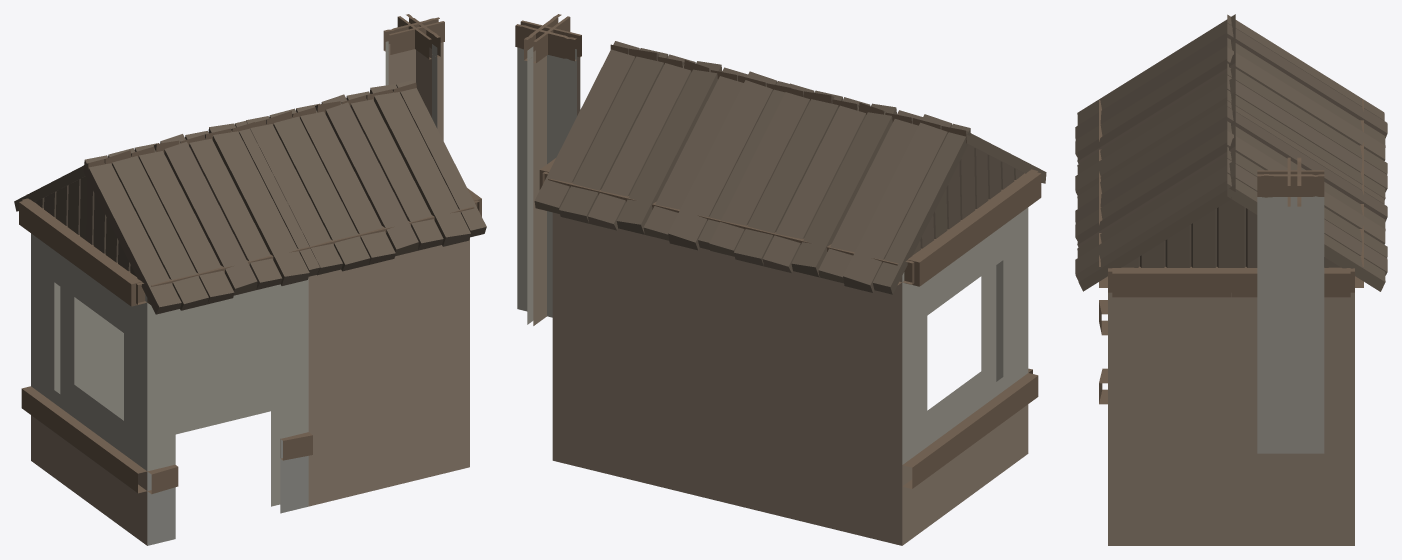
Rendered from workshop.glb.
3 views of the same model, side by side, from view 1: azimuth 30°, elevation 25°; view 2: azimuth 150°, elevation 25°; view 3: azimuth 270°, elevation 25° (orthographic). The views are drawn at different scales.
Visible parts, largest first — view 1: authored:building-shell-workshop:brick:1, MoyoSilhouetteRoof:6, MoyoSilhouetteRoof:8, authored:building-shell-workshop:window:4, authored:building-shell-workshop:door:0, authored:building-shell-workshop:brick:2, authored:building-shell-workshop:brick:3, MoyoSilhouetteRoof:7, MoyoSilhouetteStack:11, MoyoSilhouetteStack:10, MoyoSilhouetteRoof:9; view 2: authored:building-shell-workshop:brick:2, authored:building-shell-workshop:brick:3, MoyoSilhouetteRoof:7, MoyoSilhouetteRoof:9, authored:building-shell-workshop:window:4, MoyoSilhouetteStack:11, MoyoSilhouetteRoof:6, MoyoSilhouetteStack:10, MoyoSilhouetteRoof:8, authored:building-shell-workshop:door:0; view 3: authored:building-shell-workshop:brick:5, MoyoSilhouetteRoof:8, MoyoSilhouetteStack:10, MoyoSilhouetteRoof:9, MoyoSilhouetteRoof:7, MoyoSilhouetteRoof:6, authored:building-shell-workshop:door:0.
Part boxes in pixels (x1=…): authored:building-shell-workshop:brick:1: x1=308, y1=206, x2=474, y2=506; MoyoSilhouetteRoof:6: x1=75, y1=121, x2=319, y2=314; MoyoSilhouetteRoof:8: x1=246, y1=80, x2=486, y2=275; authored:building-shell-workshop:window:4: x1=21, y1=198, x2=147, y2=545; authored:building-shell-workshop:door:0: x1=147, y1=246, x2=312, y2=545; authored:building-shell-workshop:brick:2: x1=26, y1=194, x2=201, y2=434; authored:building-shell-workshop:brick:3: x1=201, y1=334, x2=270, y2=427; MoyoSilhouetteRoof:7: x1=14, y1=122, x2=255, y2=264; MoyoSilhouetteStack:11: x1=383, y1=17, x2=444, y2=140; MoyoSilhouetteStack:10: x1=397, y1=14, x2=440, y2=128; MoyoSilhouetteRoof:9: x1=255, y1=82, x2=416, y2=126; authored:building-shell-workshop:brick:2: x1=722, y1=221, x2=902, y2=545; authored:building-shell-workshop:brick:3: x1=548, y1=178, x2=727, y2=502; MoyoSilhouetteRoof:7: x1=709, y1=83, x2=980, y2=294; MoyoSilhouetteRoof:9: x1=534, y1=41, x2=789, y2=250; authored:building-shell-workshop:window:4: x1=902, y1=169, x2=1038, y2=545; MoyoSilhouetteStack:11: x1=515, y1=20, x2=581, y2=317; MoyoSilhouetteRoof:6: x1=786, y1=88, x2=1046, y2=241; MoyoSilhouetteStack:10: x1=524, y1=14, x2=570, y2=325; MoyoSilhouetteRoof:8: x1=610, y1=44, x2=791, y2=93; authored:building-shell-workshop:door:0: x1=996, y1=260, x2=1032, y2=381; authored:building-shell-workshop:brick:5: x1=1108, y1=268, x2=1354, y2=545; MoyoSilhouetteRoof:8: x1=1075, y1=98, x2=1235, y2=297; MoyoSilhouetteStack:10: x1=1257, y1=170, x2=1324, y2=453; MoyoSilhouetteRoof:9: x1=1227, y1=101, x2=1387, y2=297; MoyoSilhouetteRoof:7: x1=1227, y1=14, x2=1387, y2=199; MoyoSilhouetteRoof:6: x1=1075, y1=14, x2=1235, y2=195; authored:building-shell-workshop:door:0: x1=1099, y1=100, x2=1107, y2=404.
Size of the model in its own units: 4.91 by 4.37 by 3.16.
